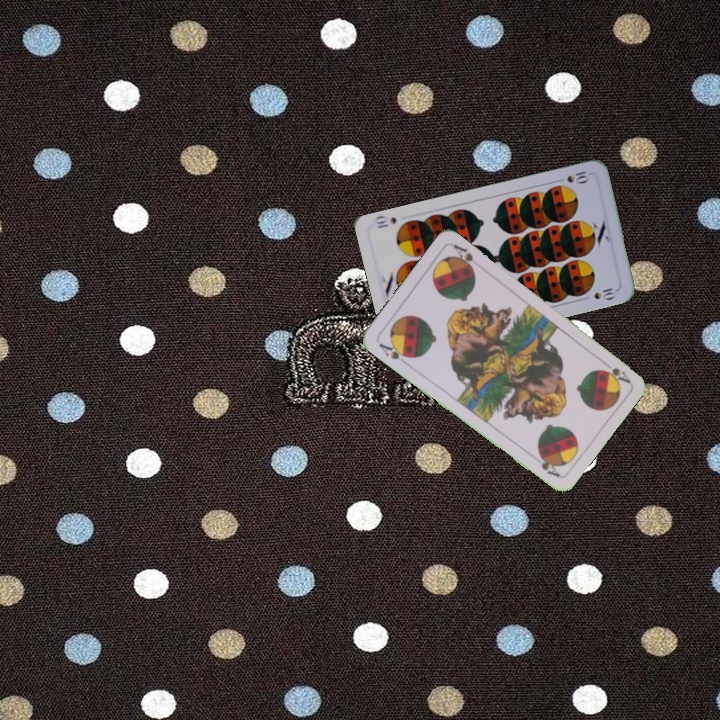S10: (552, 167, 592, 186)
SA: (375, 339, 413, 367), (598, 356, 633, 386)
